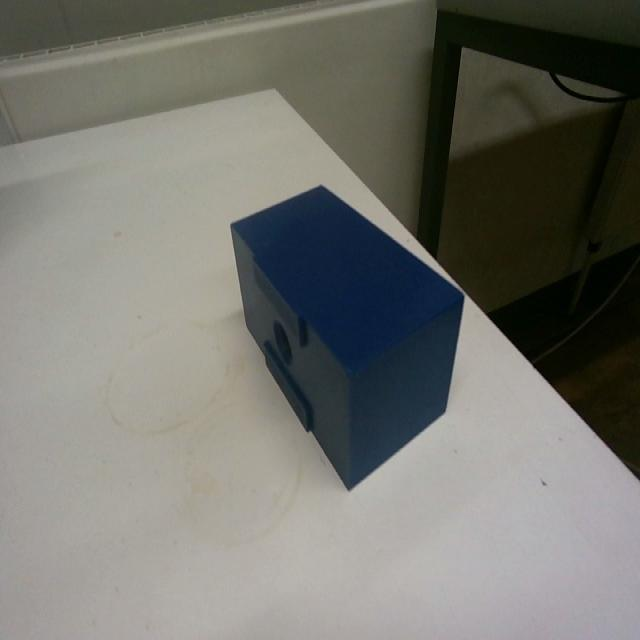Blue Cuboid: (227, 180, 466, 491)
